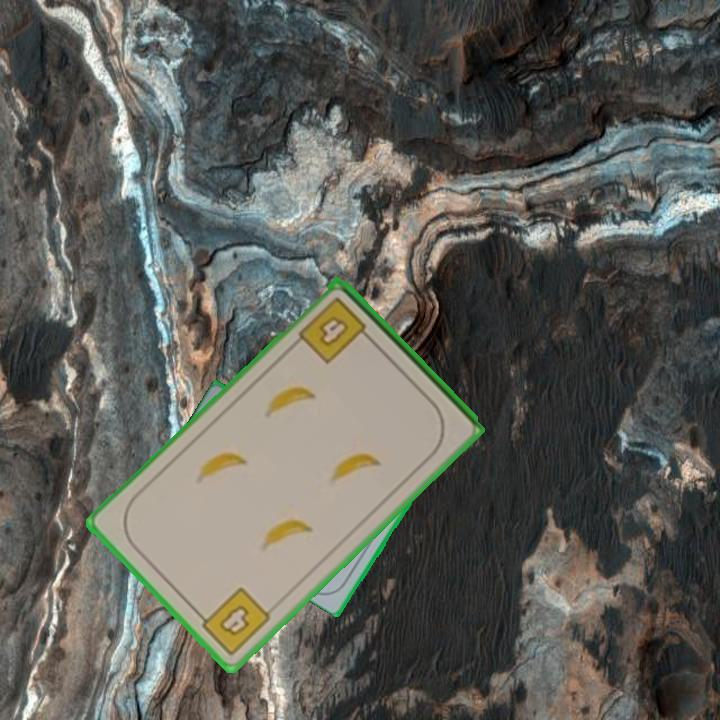4b: (192, 583, 274, 659), (295, 293, 376, 367)
